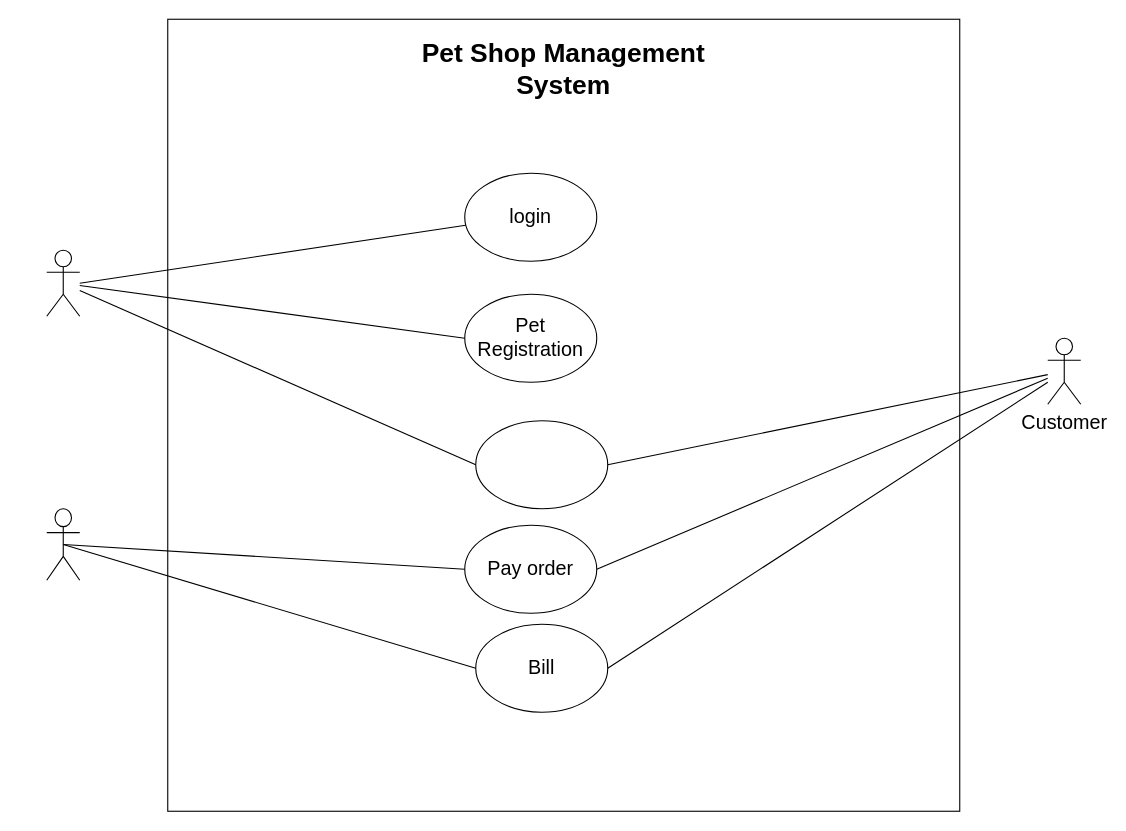
The diagram is 1126 pixels wide and 831 high, and some of its shapes have lost their labels. Each missing label, with the box of its shape:
Accounter: (46, 508, 80, 580)
Create Order: (475, 420, 608, 509)
Manager: (46, 249, 80, 316)
